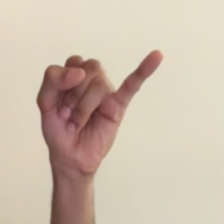J: (35, 41, 171, 185)
